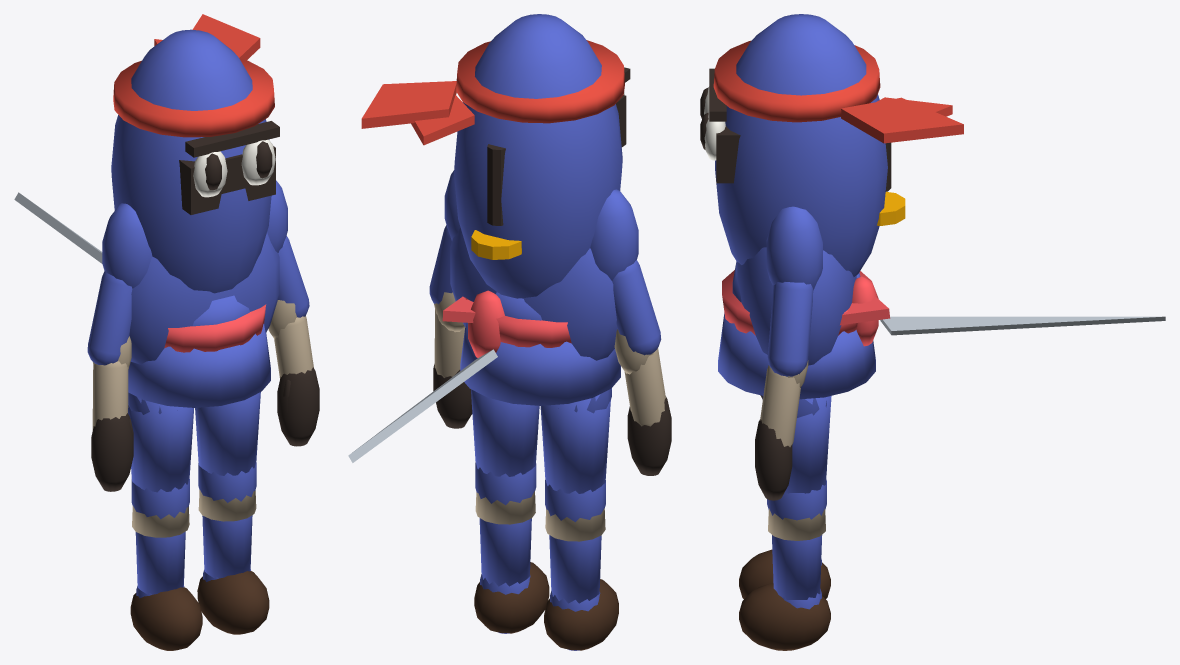
Rendered from char_ninja.glb.
3 renders of one model, left to right at view 1: azimuth 30°, elevation 25°; view 2: azimuth 150°, elevation 25°; view 3: azimuth 270°, elevation 25°, orthographic. The views are drawn at different scales.
Visible parts, largest first — view 1: char_ninja; view 2: char_ninja; view 3: char_ninja.
Boxes of the visible parts, box(x1,y1,x2,y2) form: char_ninja: box(14, 14, 319, 650); char_ninja: box(348, 14, 671, 650); char_ninja: box(700, 14, 1165, 650).
Bounding box in the file's own units: 0.483 × 1.23 × 0.8483.
